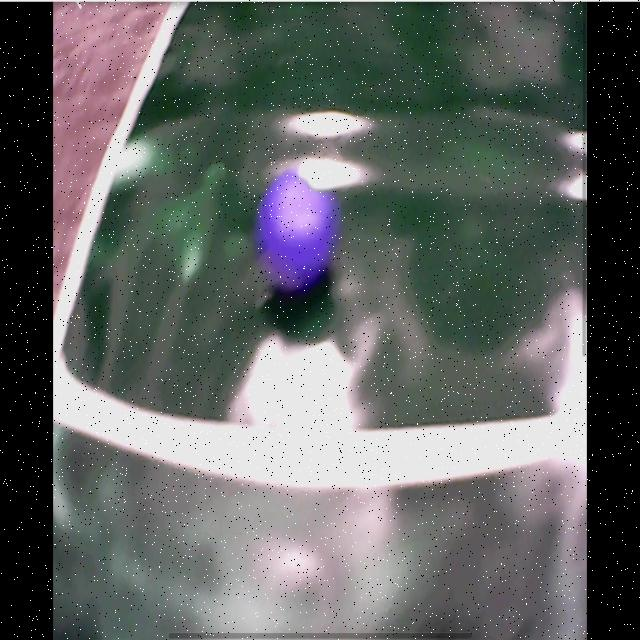ball: (260, 171, 335, 288)
